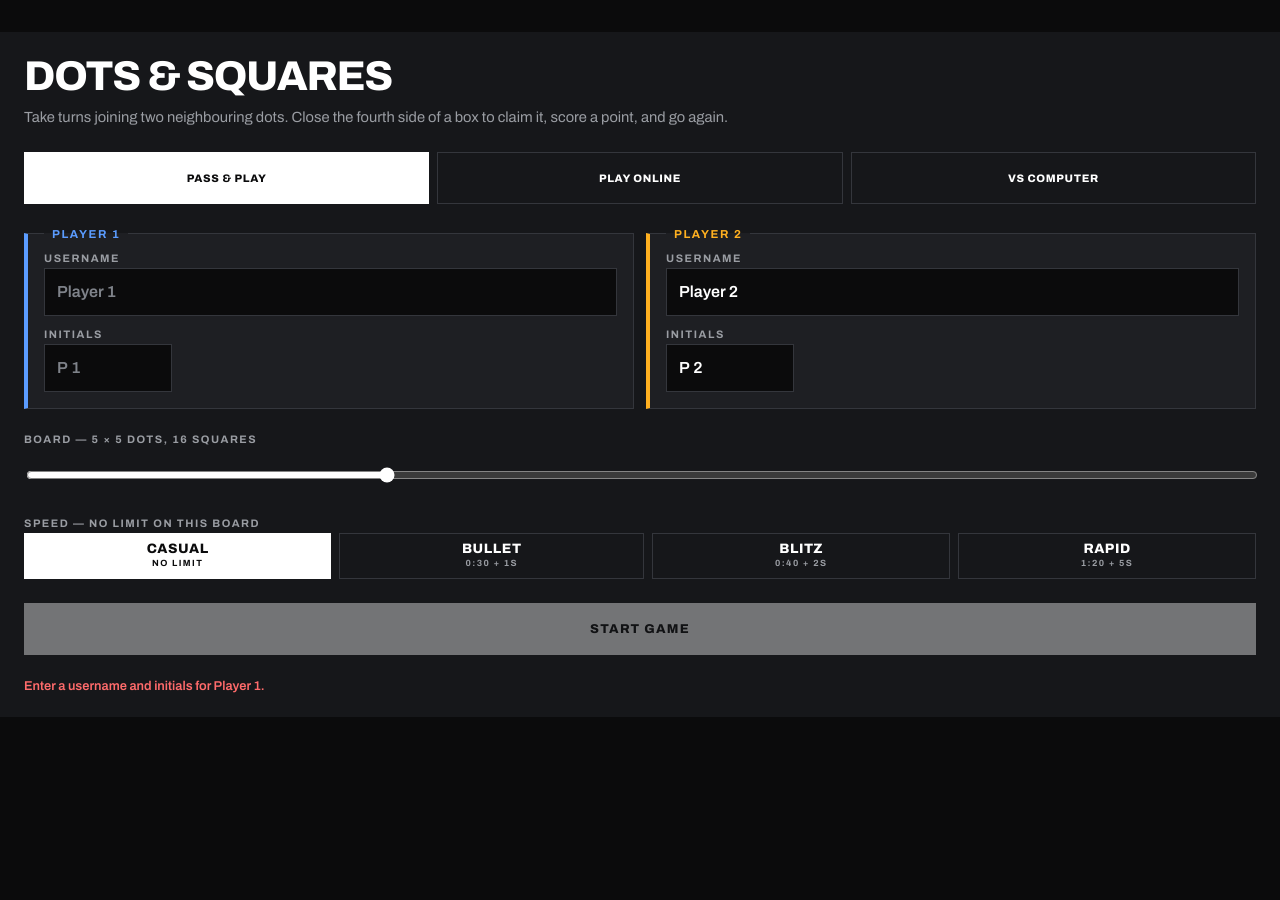
UX-001 — the first click a visitor makes › stops saying it once the form is usable
In the 1st field labelled "Username": (330, 292) [44,268,617,316], type "Ada"
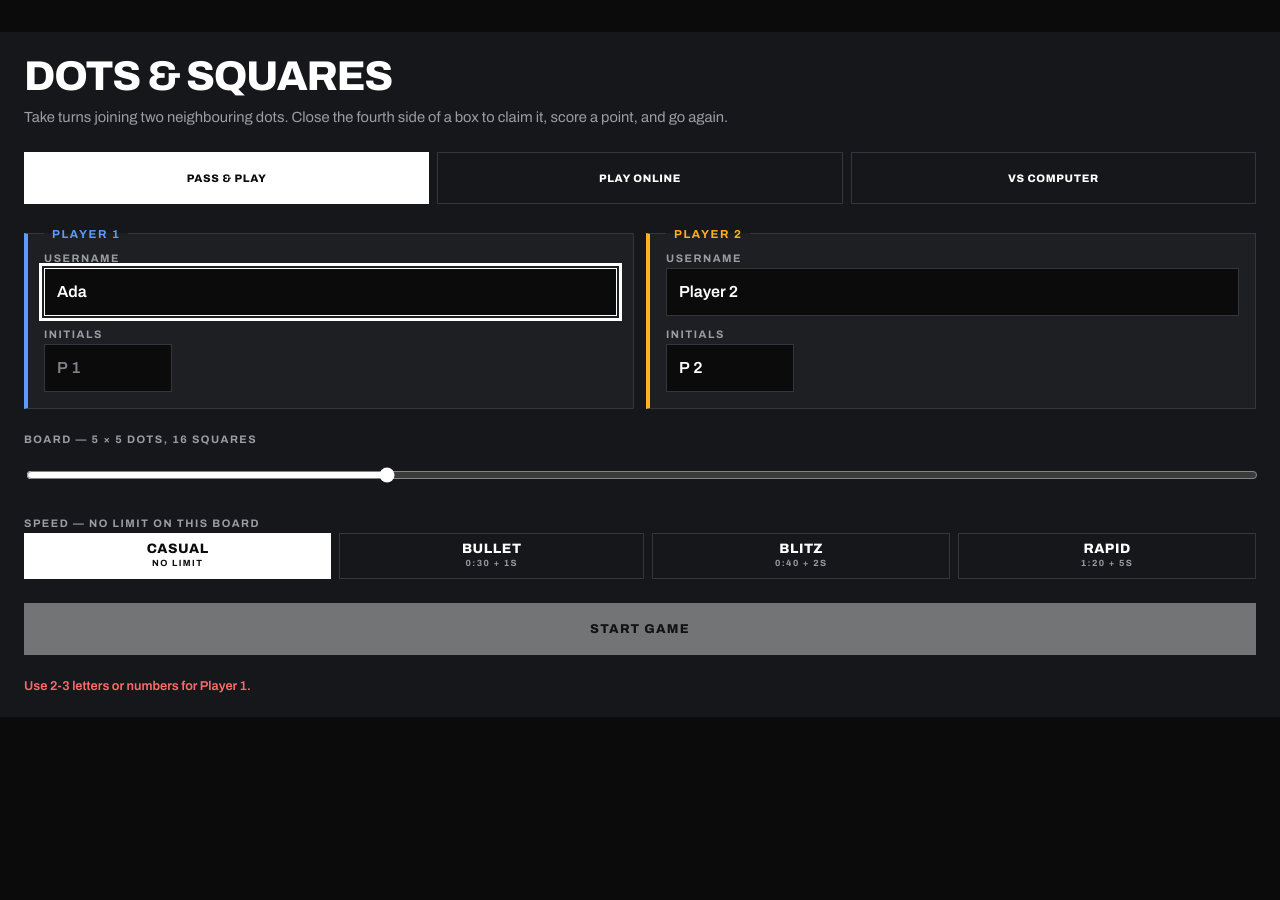
In the 1st field labelled "Initials": (108, 368) [44,344,172,392], type "AL"
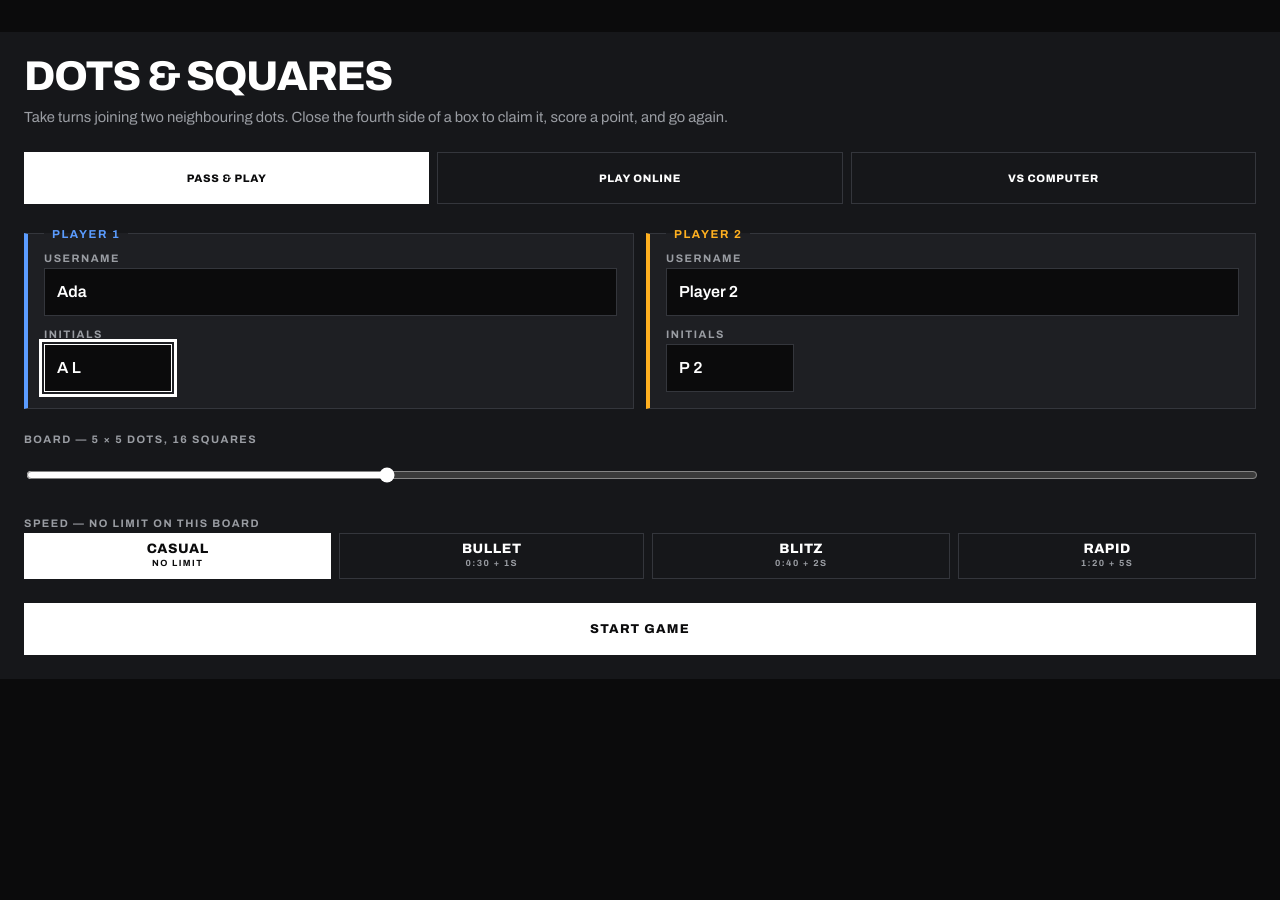
Check: the button "Start Game" is enabled, box [24,603,1256,655]
